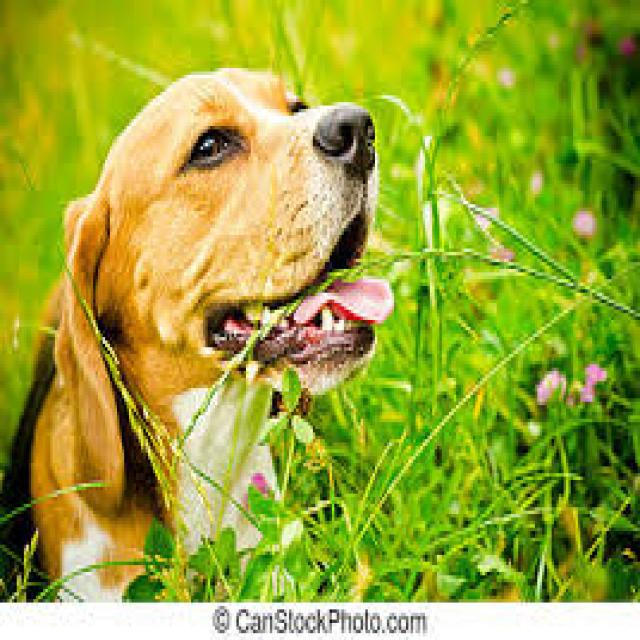Dog: (1, 52, 398, 601)
